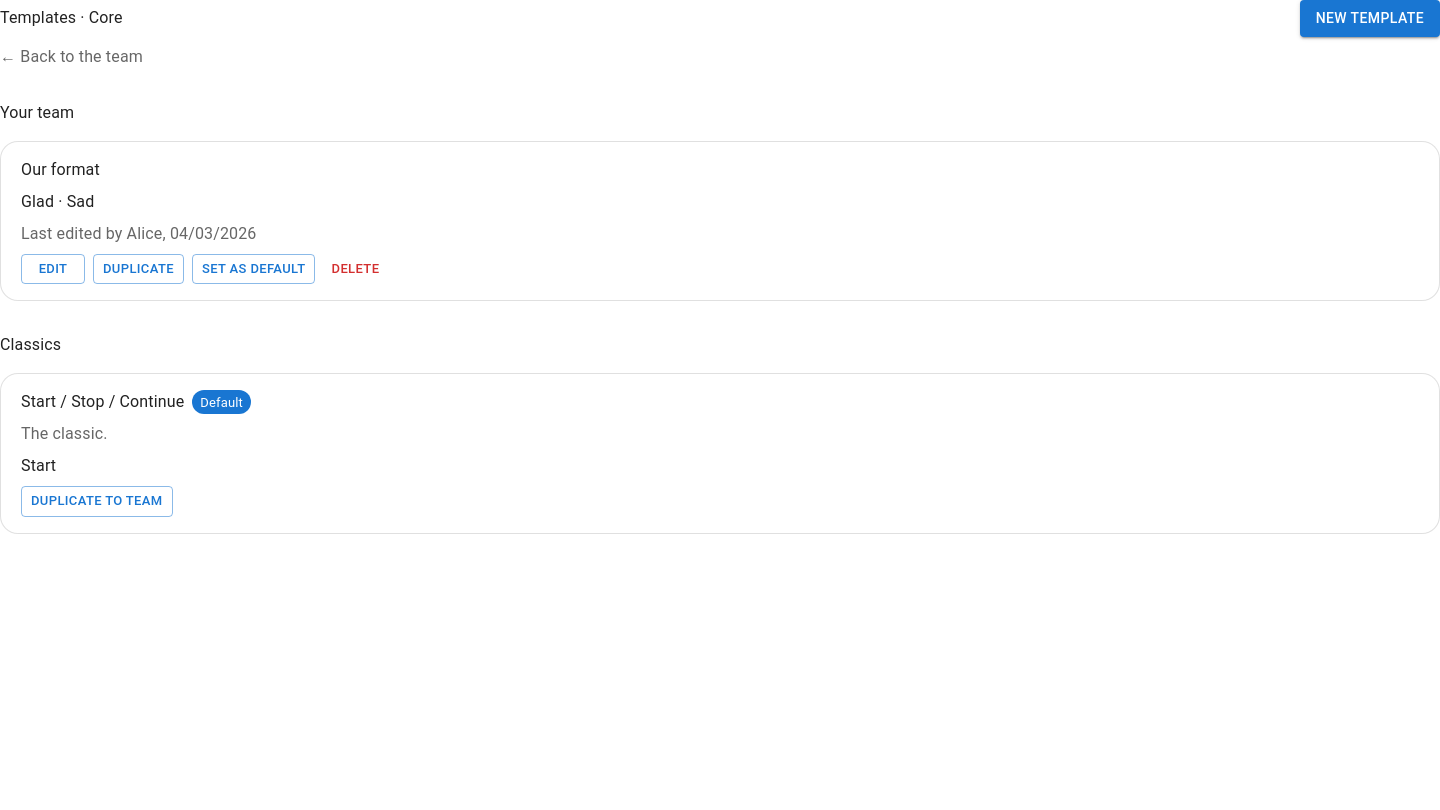
TeamTemplatesPage › saves the edited template and shows a server conflict in the editor
Click the button "Edit": (53, 269) [21,254,85,284]
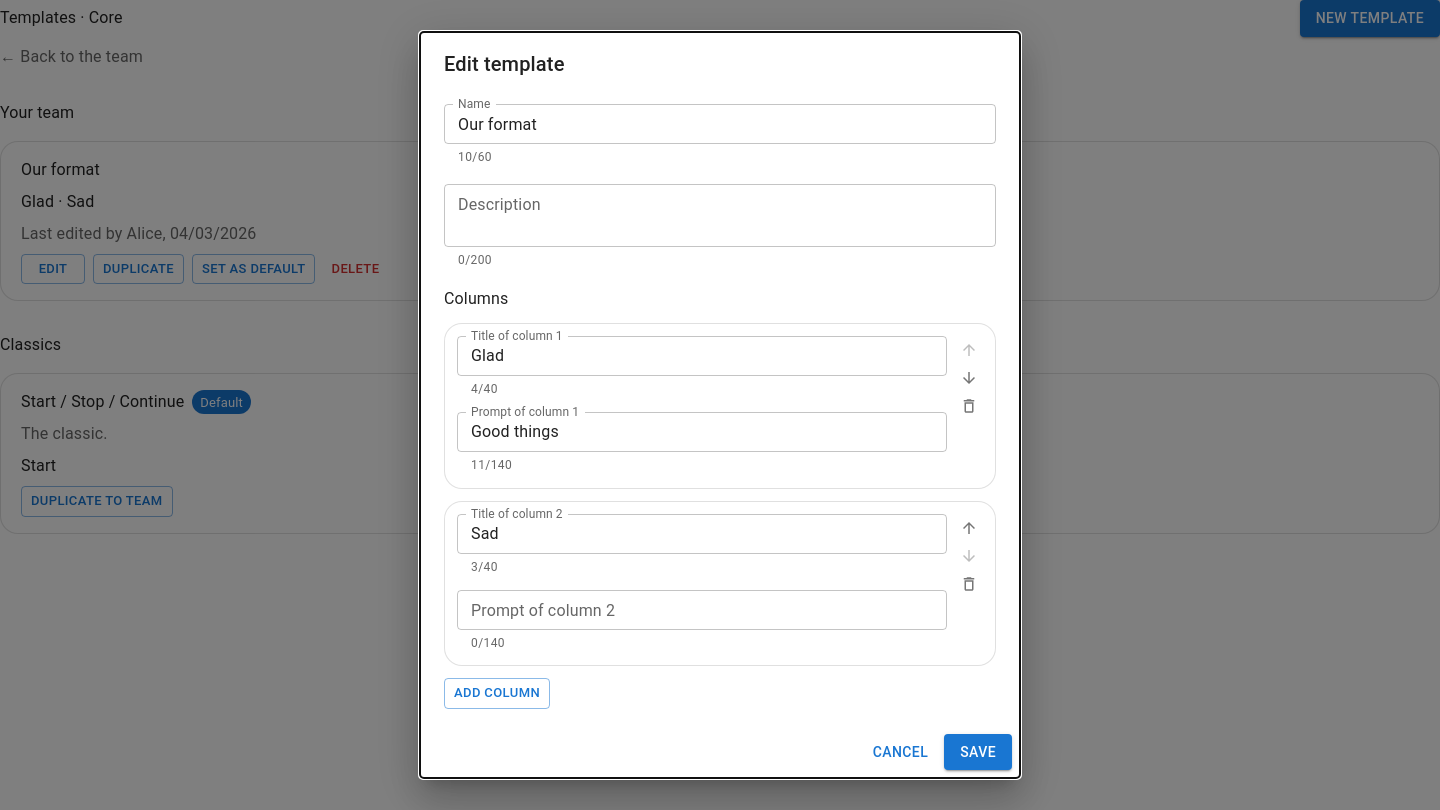
Replace the text in the field labelled "Name" with "Renamed": (720, 124) [444,104,996,144]
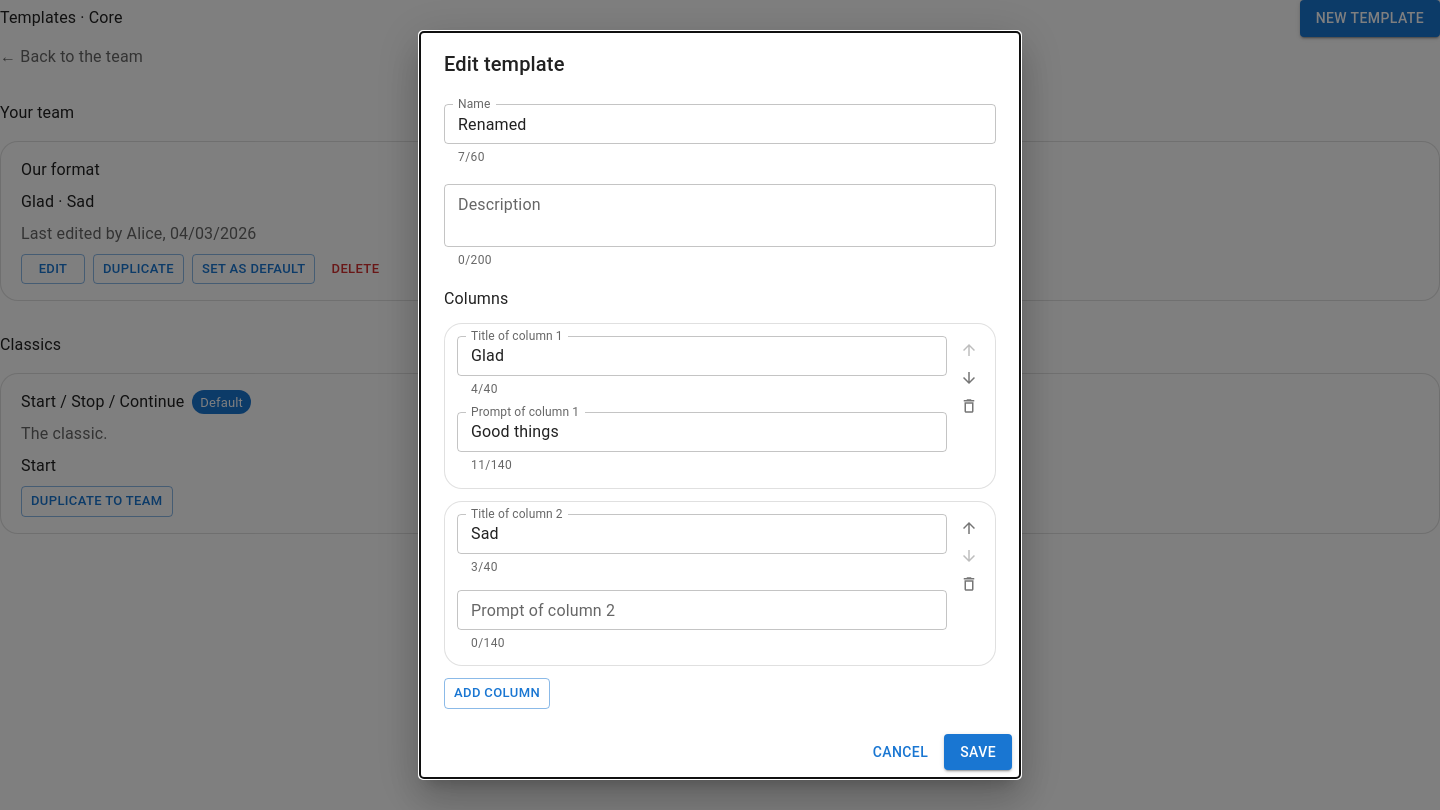
Click the button "Save": (978, 752) [944,734,1012,770]
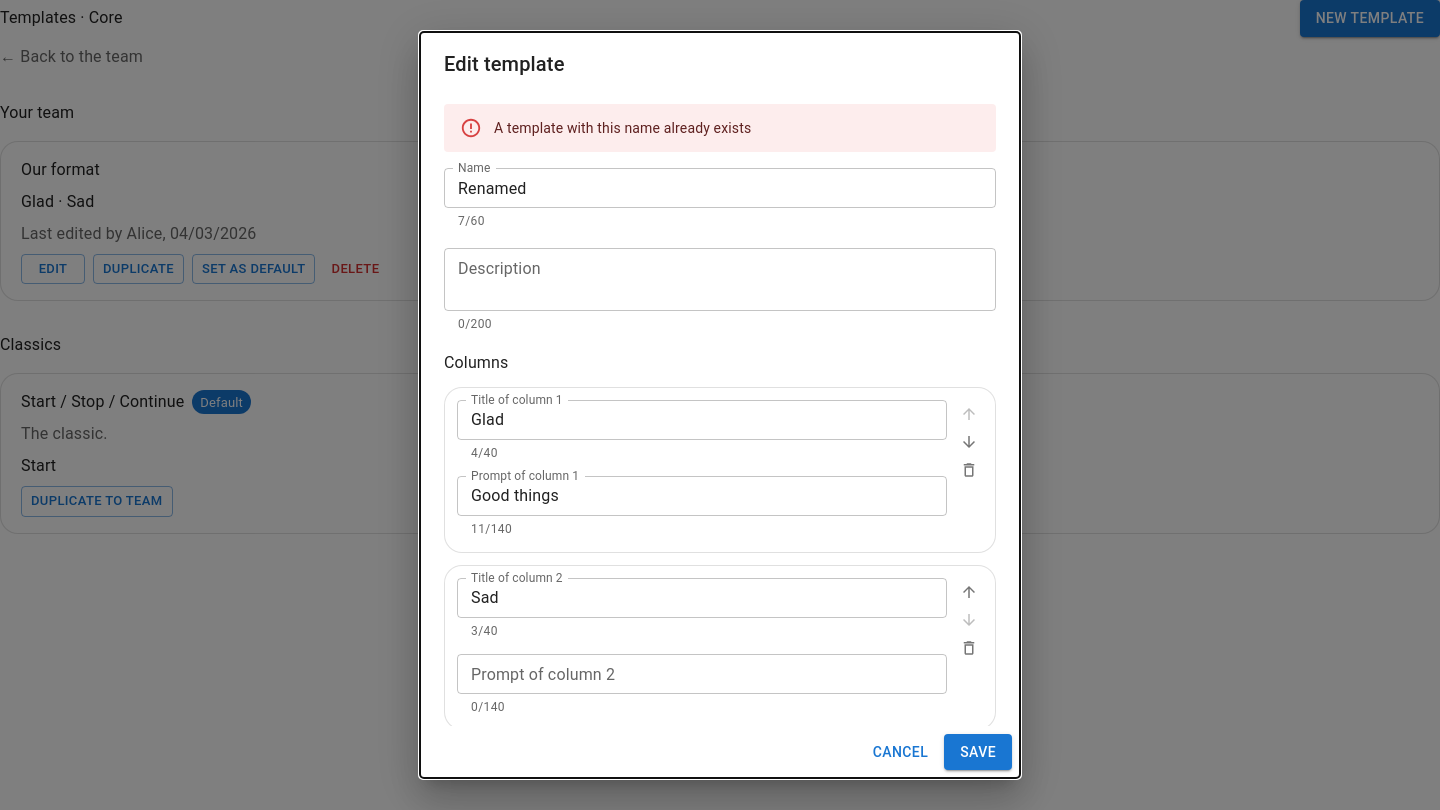
Expected: the text "A template with this name already exists" is shown, [494,120,751,136]
